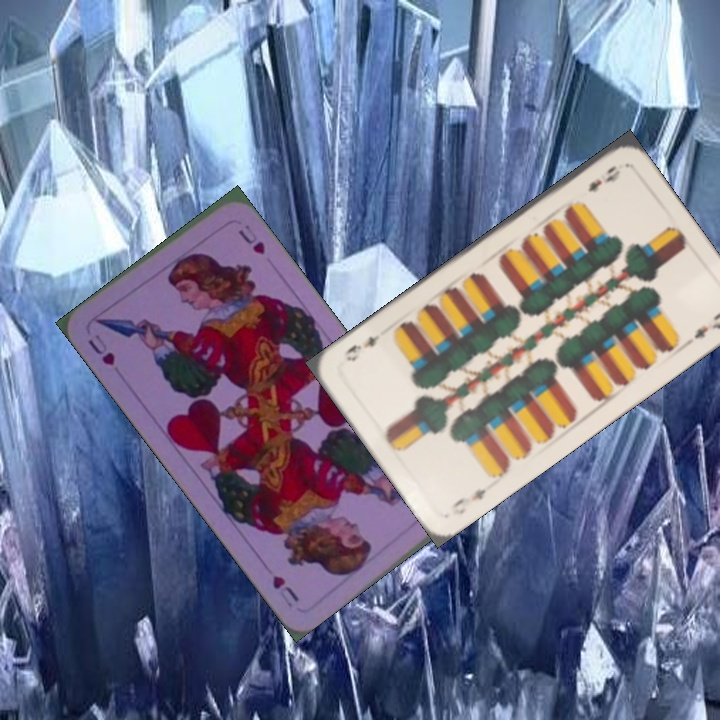E9: (447, 484, 489, 518), (583, 161, 623, 195)
HU: (84, 330, 118, 368)
